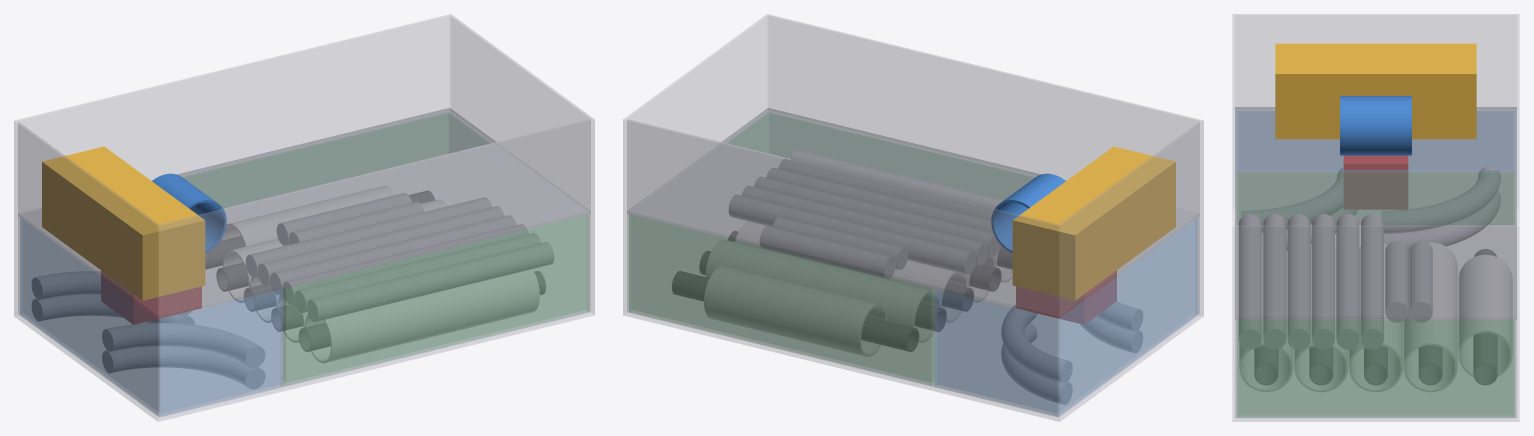
The picture shows the model from 3 angles, left to right: view 1: azimuth 30°, elevation 25°; view 2: azimuth 150°, elevation 25°; view 3: azimuth 270°, elevation 25°; orthographic projection.
Visible parts, largest first — view 1: tank_30cm, shelf, nutrient_bucket, clean_bucket, arm_folded_ASSUMED, grow_pipe_1, track_long_1, track_corner_3, track_corner_1, track_long_3, track_long_4, track_long_2 (+15 smaller); view 2: tank_30cm, shelf, nutrient_bucket, clean_bucket, arm_folded_ASSUMED, cleanout_section, grow_pipe_4, track_long_6, track_short_2, track_long_5, track_long_4, track_long_3 (+14 smaller); view 3: tank_30cm, shelf, nutrient_bucket, arm_folded_ASSUMED, clean_bucket, cleanout_section, grow_pipe_4, sleeve, cart_body, track_long_1, track_long_2, track_long_6 (+16 smaller).
Boxes of the visible parts, <box> form: tank_30cm: <box>14,14,594,421</box>; shelf: <box>18,108,590,318</box>; nutrient_bucket: <box>183,112,588,385</box>; clean_bucket: <box>20,217,282,416</box>; arm_folded_ASSUMED: <box>42,146,205,300</box>; grow_pipe_1: <box>305,269,539,362</box>; track_long_1: <box>307,242,553,321</box>; track_corner_3: <box>102,323,265,367</box>; track_corner_1: <box>102,346,265,389</box>; track_long_3: <box>282,224,528,303</box>; track_long_4: <box>270,215,516,294</box>; track_long_2: <box>295,233,540,312</box>; tank_30cm: <box>623,14,1203,421</box>; shelf: <box>627,108,1199,318</box>; nutrient_bucket: <box>629,112,1034,385</box>; clean_bucket: <box>935,217,1197,416</box>; arm_folded_ASSUMED: <box>1012,146,1175,300</box>; cleanout_section: <box>704,266,886,356</box>; grow_pipe_4: <box>706,240,939,342</box>; track_long_6: <box>729,195,975,274</box>; track_short_2: <box>760,226,895,278</box>; track_long_5: <box>742,186,987,265</box>; track_long_4: <box>754,177,999,256</box>; track_long_3: <box>766,168,1001,246</box>; tank_30cm: <box>1232,14,1519,421</box>; shelf: <box>1235,107,1516,319</box>; nutrient_bucket: <box>1237,172,1514,417</box>; arm_folded_ASSUMED: <box>1275,43,1476,139</box>; clean_bucket: <box>1237,111,1514,171</box>; cleanout_section: <box>1459,255,1512,376</box>; grow_pipe_4: <box>1404,242,1457,391</box>; sleeve: <box>1340,96,1411,155</box>; cart_body: <box>1343,155,1408,208</box>; track_long_1: <box>1238,214,1261,349</box>; track_long_2: <box>1263,214,1285,349</box>; track_long_6: <box>1361,214,1383,349</box>.
Bounding box in the file's own units: 700 × 300 × 400.
